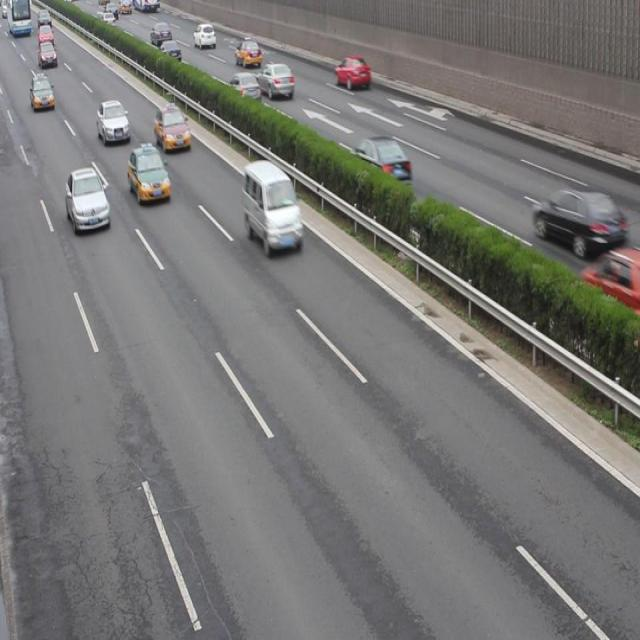car: (531, 186, 619, 254), (580, 254, 640, 313), (348, 135, 411, 186), (66, 170, 109, 233), (128, 143, 171, 203), (154, 105, 192, 152), (96, 98, 129, 143), (256, 64, 293, 98), (334, 56, 369, 90), (228, 72, 260, 104), (31, 73, 55, 110), (234, 38, 261, 67), (193, 23, 216, 50), (158, 39, 181, 64), (150, 21, 171, 47), (38, 40, 56, 66)
truck: (242, 158, 303, 253)
